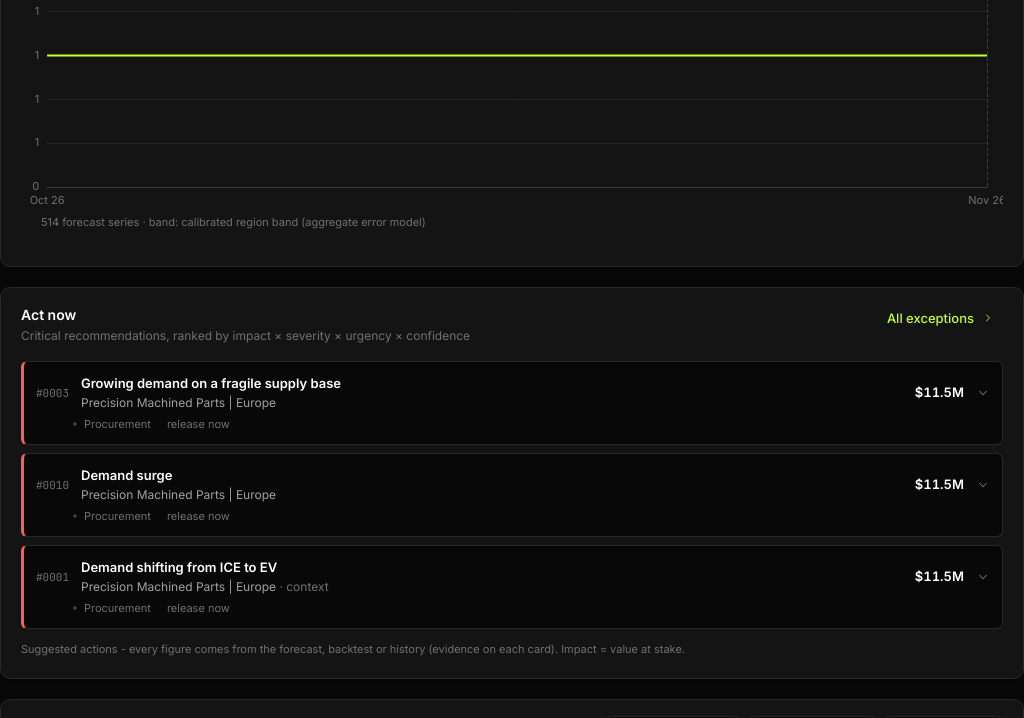
Test: Executive Overview › lists critical actions with expandable evidence and marks broader context
The width and height of the screenshot is (1024, 718).
(page scrolled)
Expected: the text "· context" is shown, [276,579,329,594]
Click the text "Growing demand on a fragile supply base" at (211,383), box [81,375,341,391]
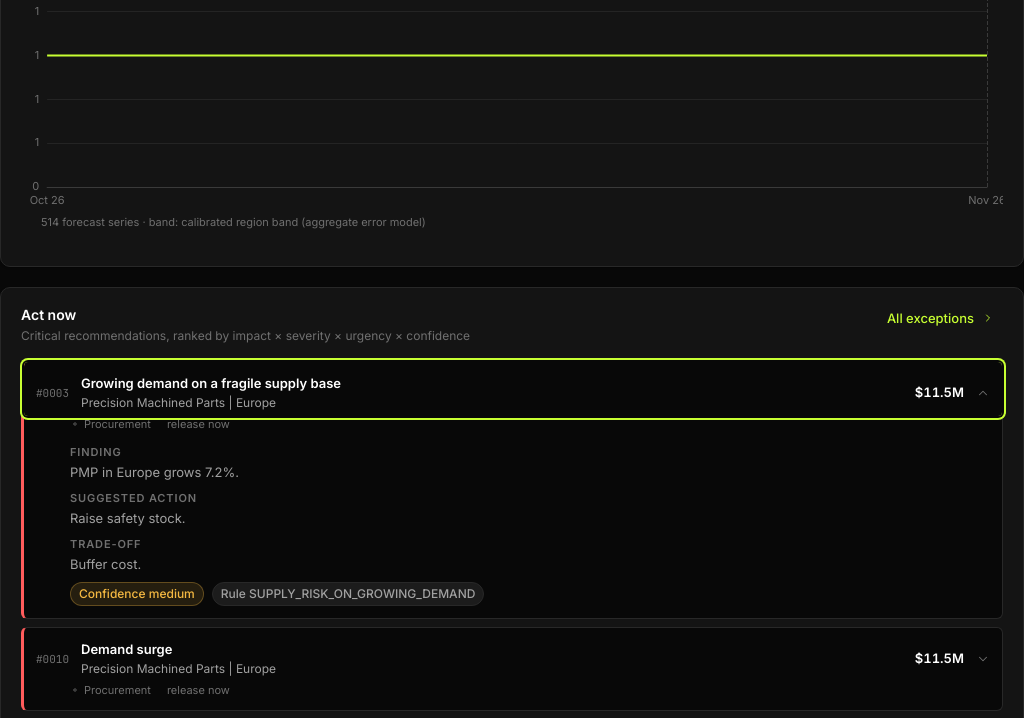
Now the text "PMP in Europe grows 7.2%." is shown, box [70,464,239,480]
Now the text "Raise safety stock." is shown, box [70,510,186,526]
